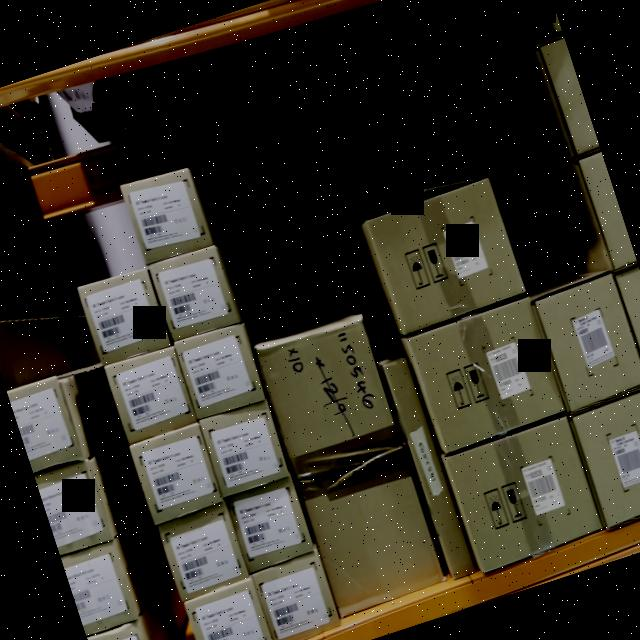box: (255, 316, 445, 614), (408, 297, 566, 452), (446, 418, 604, 570), (365, 182, 525, 332), (384, 362, 474, 578), (532, 271, 640, 410), (122, 166, 216, 267), (569, 390, 640, 522), (130, 423, 222, 522), (82, 268, 172, 367), (175, 323, 266, 420), (198, 400, 290, 494), (108, 346, 198, 442), (158, 504, 248, 598), (226, 478, 315, 572), (149, 246, 238, 338), (254, 551, 342, 640), (185, 578, 276, 640)
